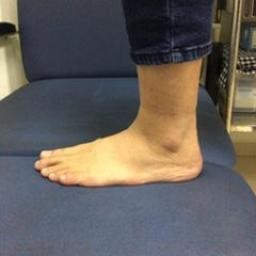Lateral View -Left Foot-: (31, 102, 213, 196)
